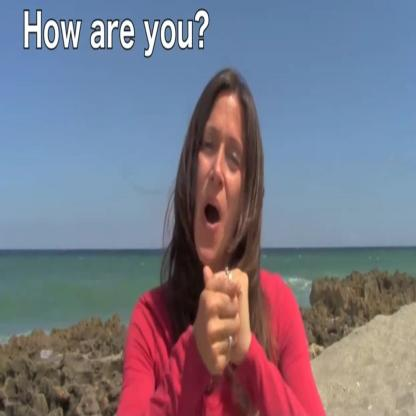HowAreYou: (184, 240, 255, 372)
